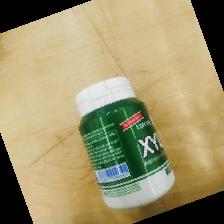Xylitol_green: (76, 76, 178, 211)
